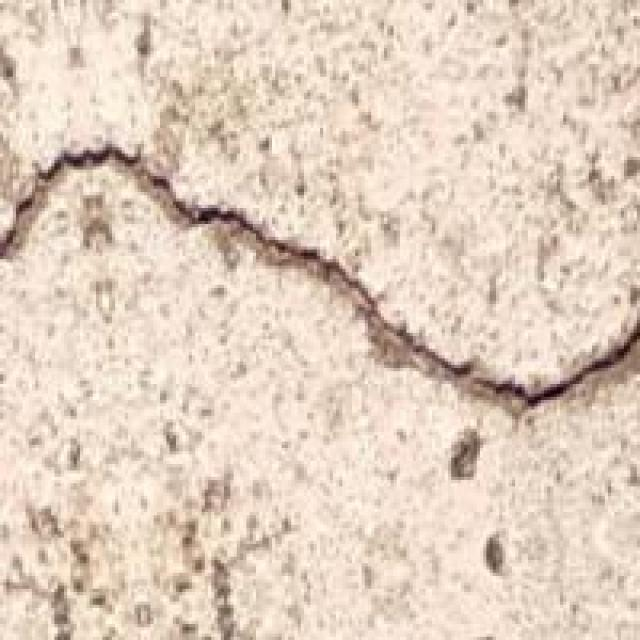Crack: (3, 96, 637, 410)
